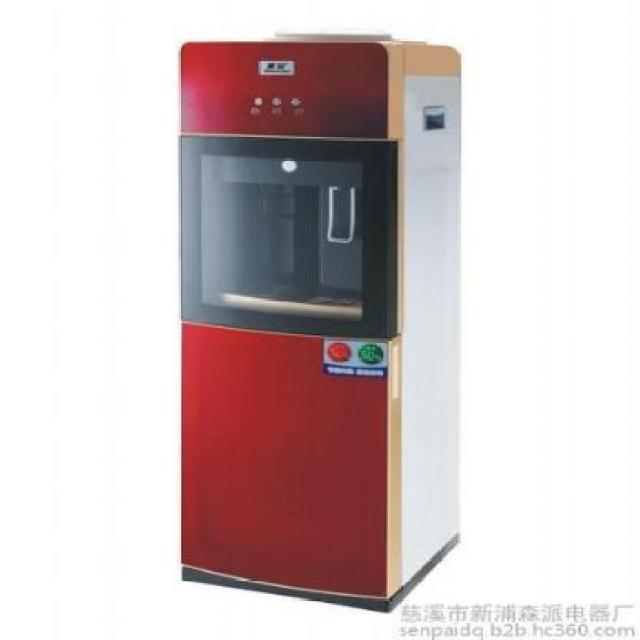cooler: (174, 26, 471, 614)
